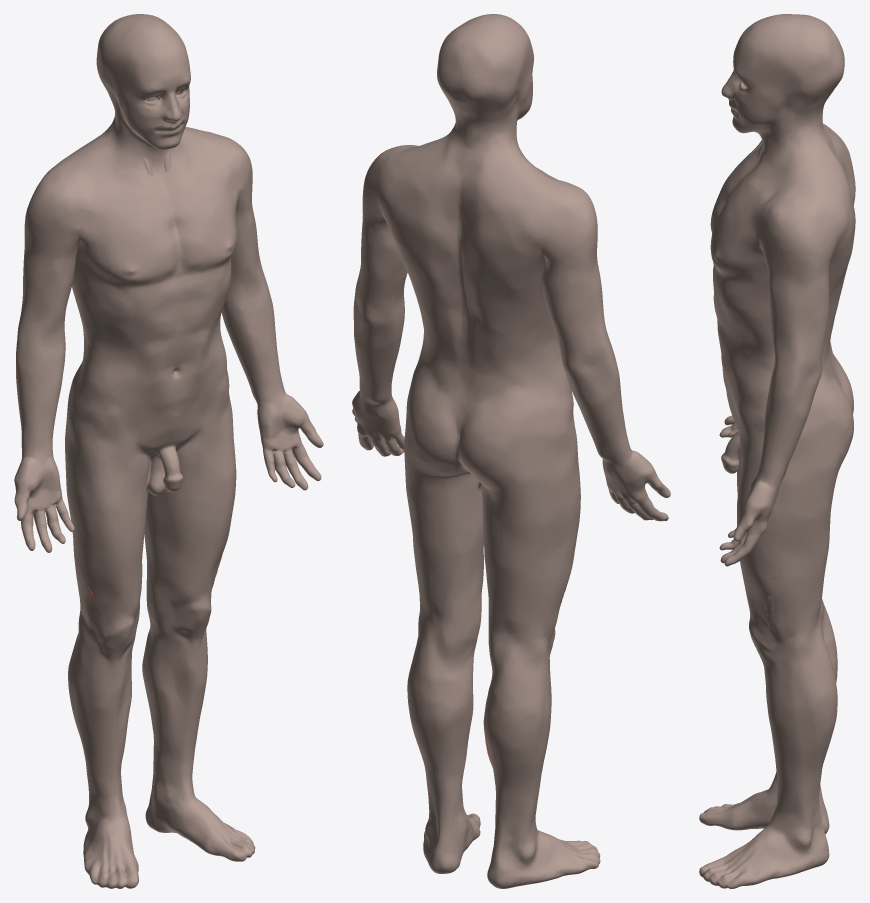
Rendered from muscular-atlas.glb.
3 views of the same model, side by side, from view 1: azimuth 30°, elevation 25°; view 2: azimuth 150°, elevation 25°; view 3: azimuth 270°, elevation 25° (orthographic). The views are drawn at different scales.
Visible parts, largest first — view 1: FJ2810; view 2: FJ2810; view 3: FJ2810.
Part boxes in pixels (x1,y1,x2,y2): FJ2810: [14, 14, 323, 888]; FJ2810: [352, 14, 670, 888]; FJ2810: [699, 14, 855, 888].
Size of the model in its own units: 0.6669 by 1.72 by 0.292.
